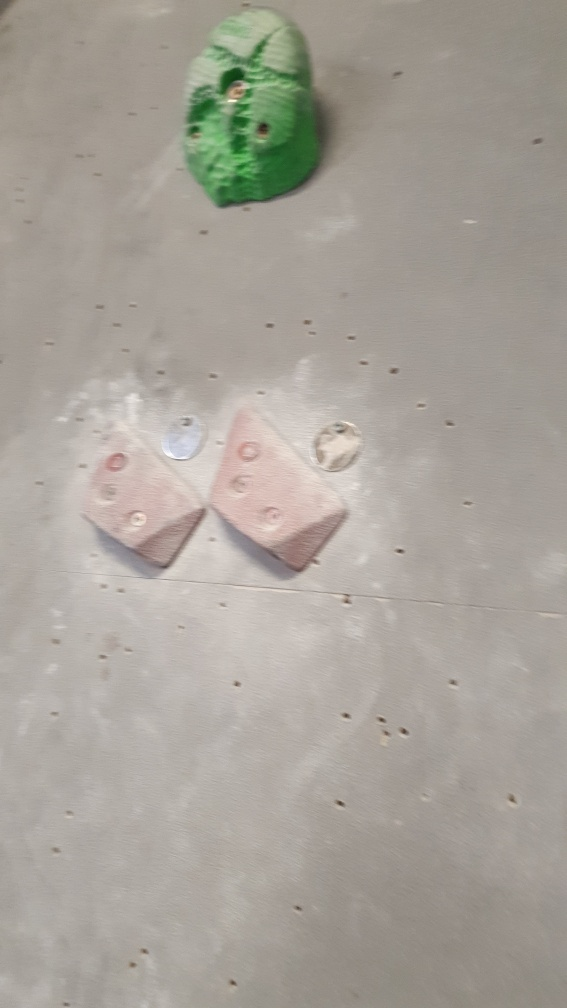Crimp: (212, 404, 350, 575), (80, 427, 212, 571)
Hand Start: (310, 417, 363, 477), (160, 414, 210, 464)
Jug: (182, 3, 324, 208)
